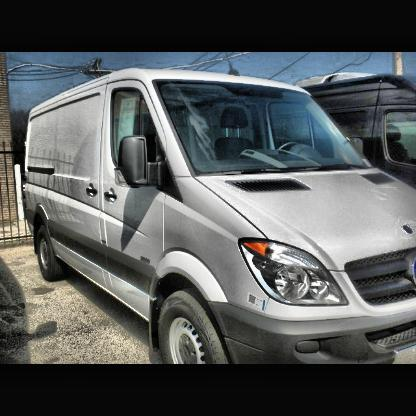Mercedes-Benz Sprinter Van 2012: (25, 66, 416, 364)
